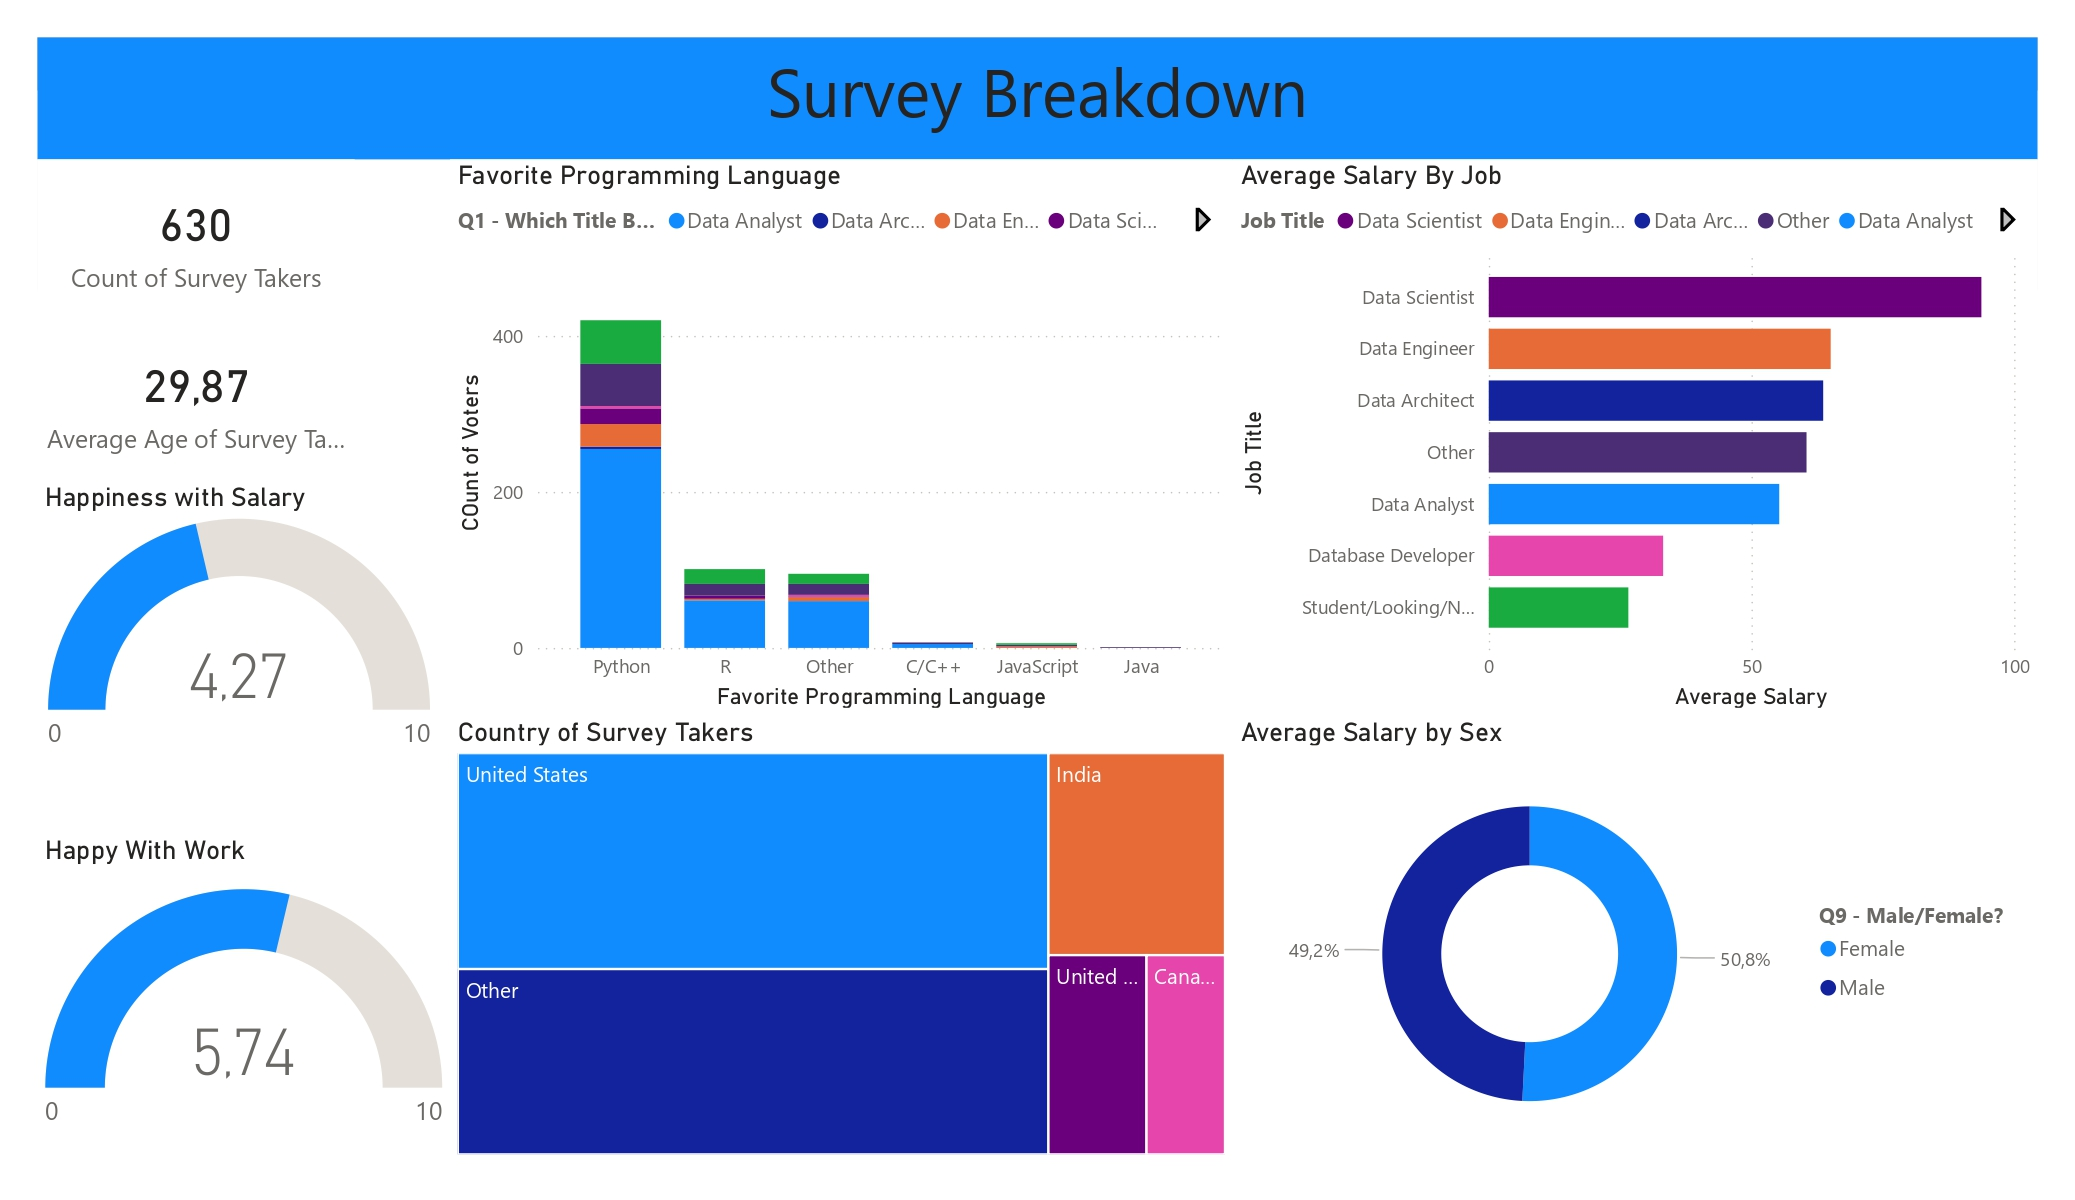

This screenshot's page, from the dashboard's own definition file:
{"tool":"powerbi","page":{"name":"Página 1","canvas":[1280,720],"ordinal":0},"visuals":[{"type":"textbox","box":[0,0,1280.3,78.2],"z":0},{"type":"card","fields":{"Values":["CountNonNull(Data Professional Survey.Unique ID)"]},"box":[0,78,203,102],"z":1000},{"type":"card","fields":{"Values":["Avg(Data Professional Survey.Q10 - Current Age)"]},"box":[0,180,203,104],"z":2000},{"type":"barChart","title":"Average Salary By Job","fields":{"Category":["Data Professional Survey.Q1 - Which Title Best Fits your Current Role?.1"],"Y":["Avg(Data Professional Survey.Average Salary)"],"Series":["Data Professional Survey.Q1 - Which Title Best Fits your Current Role?.1"]},"box":[765,78,515,356],"z":3000},{"type":"columnChart","title":"Favorite Programming Language","fields":{"Category":["Data Professional Survey.Q5 - Favorite Programming Language.1"],"Y":["CountNonNull(Data Professional Survey.Unique ID)"],"Series":["Data Professional Survey.Q1 - Which Title Best Fits your Current Role?.1"]},"box":[264,78,501,356],"z":4000},{"type":"treemap","title":"Country of Survey Takers","fields":{"Group":["Data Professional Survey.Q11 - Which Country do you live in?.1"],"Values":["CountNonNull(Data Professional Survey.Q11 - Which Country do you live in?.1)"]},"box":[264,434,501,286],"z":5000},{"type":"gauge","title":"Happy With Work","fields":{"Y":["Avg(Data Professional Survey.Q6 - How Happy are you in your Current Position with the following? (Work/Life Balance))"],"MinValue":["Min(Data Professional Survey.Q6 - How Happy are you in your Current Position with the following? (Work/Life Balance))"],"MaxValue":["Max(Data Professional Survey.Q6 - How Happy are you in your Current Position with the following? (Work/Life Balance))"]},"box":[0,510,264,210],"z":6000},{"type":"gauge","title":"Happiness with Salary","fields":{"Y":["Avg(Data Professional Survey.Q6 - How Happy are you in your Current Position with the following? (Salary))"],"MinValue":["Min(Data Professional Survey.Q6 - How Happy are you in your Current Position with the following? (Salary))"],"MaxValue":["Max(Data Professional Survey.Q6 - How Happy are you in your Current Position with the following? (Salary))"]},"box":[0,284,258,183],"z":7000},{"type":"donutChart","title":"Average Salary by Sex","fields":{"Category":["Data Professional Survey.Q9 - Male/Female?"],"Y":["Avg(Data Professional Survey.Average Salary)"]},"box":[765,434,515,286],"z":7001}]}

Visuals, with their boxes in screenshot pixels (x1, y1, x2, y2):
textbox: locate(49, 32, 2023, 153)
card - CountNonNull(Data Professional Survey.Unique ID): locate(49, 153, 362, 310)
card - Avg(Data Professional Survey.Q10 - Current Age): locate(49, 310, 362, 470)
"Average Salary By Job" barChart: locate(1228, 153, 2022, 702)
"Favorite Programming Language" columnChart: locate(456, 153, 1228, 702)
"Country of Survey Takers" treemap: locate(456, 702, 1228, 1143)
"Happy With Work" gauge: locate(49, 819, 456, 1143)
"Happiness with Salary" gauge: locate(49, 470, 446, 753)
"Average Salary by Sex" donutChart: locate(1228, 702, 2022, 1143)
